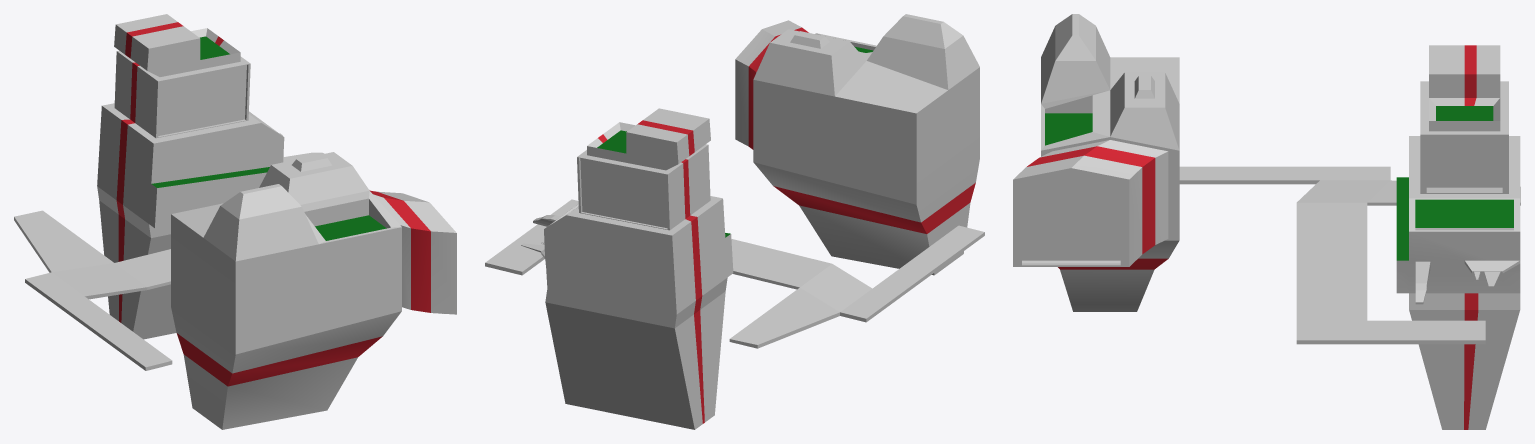
Rendered from Module01_Colors.fbx.
The picture shows the model from 3 angles, left to right: view 1: azimuth 30°, elevation 25°; view 2: azimuth 150°, elevation 25°; view 3: azimuth 270°, elevation 25°; orthographic projection. The views are drawn at different scales.
Parts seen in each view (by area): view 1: Cube, Cube.002; view 2: Cube, Cube.002; view 3: Cube, Cube.002.
Boxes of the visible parts, x1,y1,x2,y2 form: Cube: (97, 14, 456, 429); Cube.002: (14, 189, 369, 370); Cube: (521, 14, 979, 429); Cube.002: (485, 199, 984, 348); Cube: (1013, 14, 1520, 429); Cube.002: (1179, 166, 1520, 344).
Size of the model in its own units: 659 by 550 by 786.
